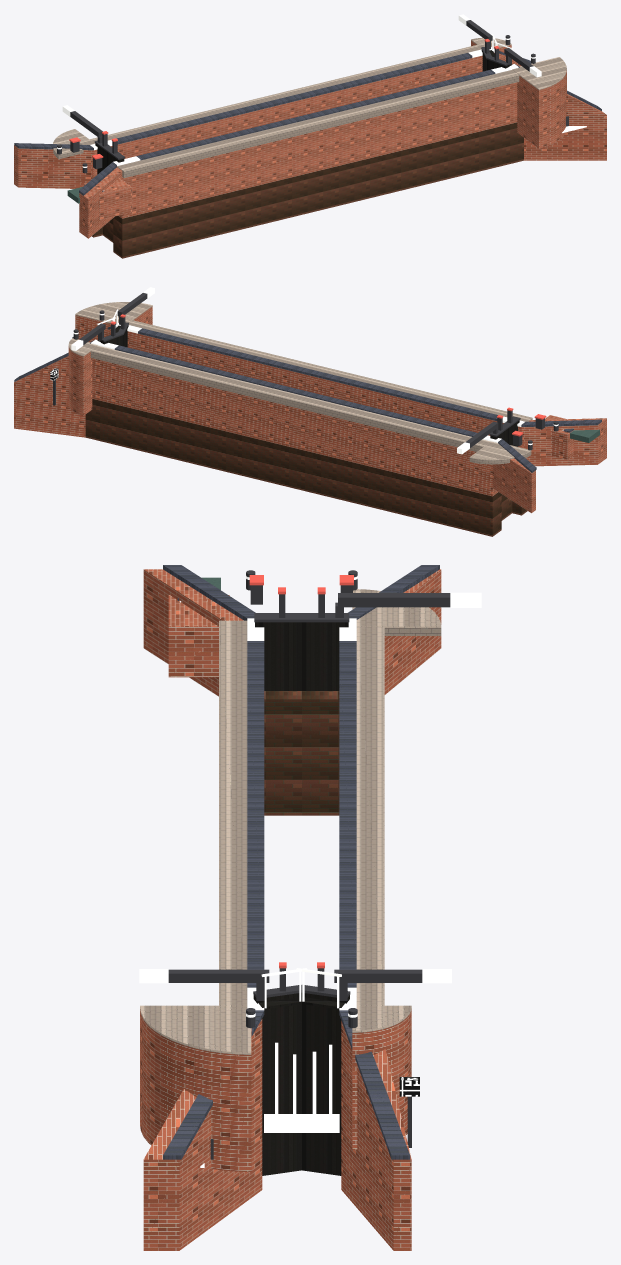
File: lock-51.glb
3 renders of one model, top to bottom at view 1: azimuth 30°, elevation 25°; view 2: azimuth 150°, elevation 25°; view 3: azimuth 270°, elevation 25°, orthographic. The views are drawn at different scales.
Visible parts, largest first — view 1: Chamber, ChamberWet, Edge, Coping.001, TopGateCap, Coping, TopGate; view 2: Chamber, ChamberWet, Edge, Coping.001, TopGateCap, Coping, TopGate; view 3: Chamber, Edge, Coping.001, TopGate, ChamberWet, TopGateCap, Coping, Leak.
Part boxes in pixels (bbox=[...]): Chamber: bbox=[14, 40, 606, 238]; ChamberWet: bbox=[92, 122, 523, 258]; Edge: bbox=[53, 37, 566, 178]; Coping.001: bbox=[14, 48, 601, 195]; TopGateCap: bbox=[57, 20, 568, 173]; Coping: bbox=[57, 14, 541, 167]; TopGate: bbox=[95, 50, 512, 174]; Chamber: bbox=[14, 306, 606, 513]; ChamberWet: bbox=[85, 399, 527, 536]; Edge: bbox=[68, 302, 532, 464]; Coping.001: bbox=[14, 324, 601, 472]; TopGateCap: bbox=[53, 293, 558, 450]; Coping: bbox=[71, 287, 558, 454]; TopGate: bbox=[97, 325, 519, 446]; Chamber: bbox=[140, 569, 441, 1250]; Edge: bbox=[140, 589, 441, 1054]; Coping.001: bbox=[163, 565, 439, 1159]; TopGate: bbox=[253, 622, 349, 1175]; ChamberWet: bbox=[264, 691, 339, 815]; TopGateCap: bbox=[168, 570, 450, 1159]; Coping: bbox=[139, 576, 481, 1017]; Leak: bbox=[179, 601, 339, 1167].
Size of the model in its own units: 33.38 by 6.59 by 9.52.
11 materials, 8 textured.
